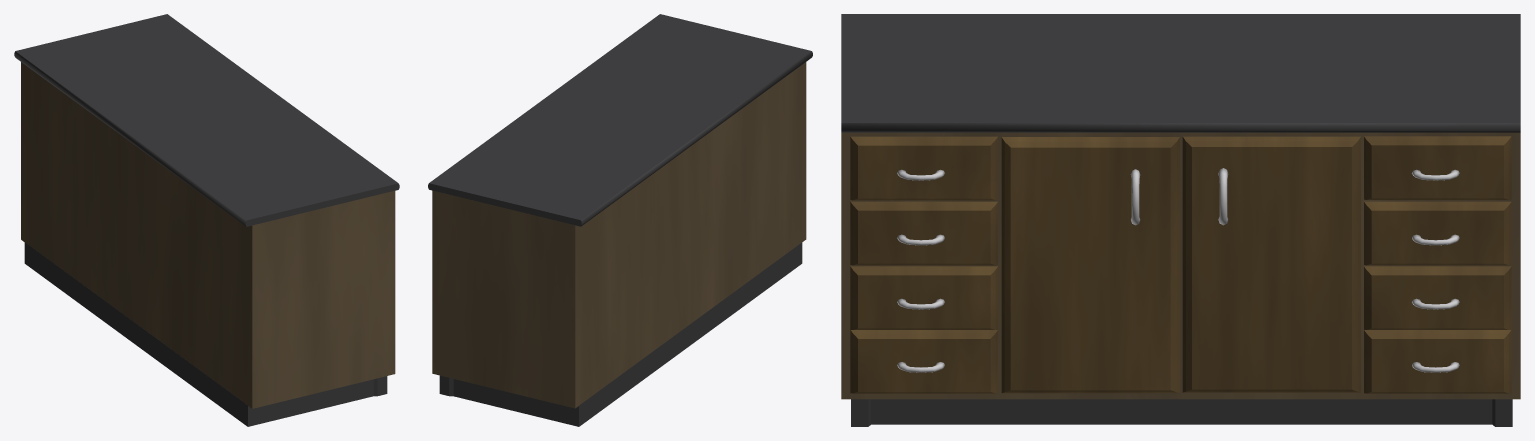
Rendered from Cabinet2.fbx.
The picture shows the model from 3 angles, left to right: view 1: azimuth 30°, elevation 25°; view 2: azimuth 150°, elevation 25°; view 3: azimuth 270°, elevation 25°; orthographic projection. The views are drawn at different scales.
Visible parts, largest first — view 1: Cabinet2, CabinetTop, Cabinet2 Base; view 2: Cabinet2, CabinetTop, Cabinet2 Base; view 3: CabinetTop, CabinetDoorL, CabinetDoorR, Cabinet2 Base, Cabinet2, DrawerL.003, DrawerR.002, DrawerL.002, DrawerR, DrawerL, DrawerR.003, DrawerR.001 (+1 smaller).
Boxes of the visible parts, x1,y1,x2,y2 form: Cabinet2: [21, 62, 395, 408]; CabinetTop: [14, 14, 399, 226]; Cabinet2 Base: [24, 242, 387, 426]; Cabinet2: [432, 62, 806, 408]; CabinetTop: [428, 14, 812, 226]; Cabinet2 Base: [439, 242, 802, 426]; CabinetTop: [841, 14, 1520, 132]; CabinetDoorL: [1001, 137, 1179, 393]; CabinetDoorR: [1182, 136, 1360, 392]; Cabinet2 Base: [851, 399, 1512, 426]; Cabinet2: [841, 132, 1520, 399]; DrawerL.003: [850, 136, 997, 200]; DrawerR.002: [1364, 201, 1511, 265]; DrawerL.002: [850, 201, 997, 265]; DrawerR: [1364, 330, 1511, 393]; DrawerL: [850, 330, 997, 393]; DrawerR.003: [1364, 136, 1511, 199]; DrawerR.001: [1364, 266, 1511, 329].
Bounding box in the file's own units: 2.32 × 2.82 × 5.6.
Materials: 4 (2 with a texture image).
